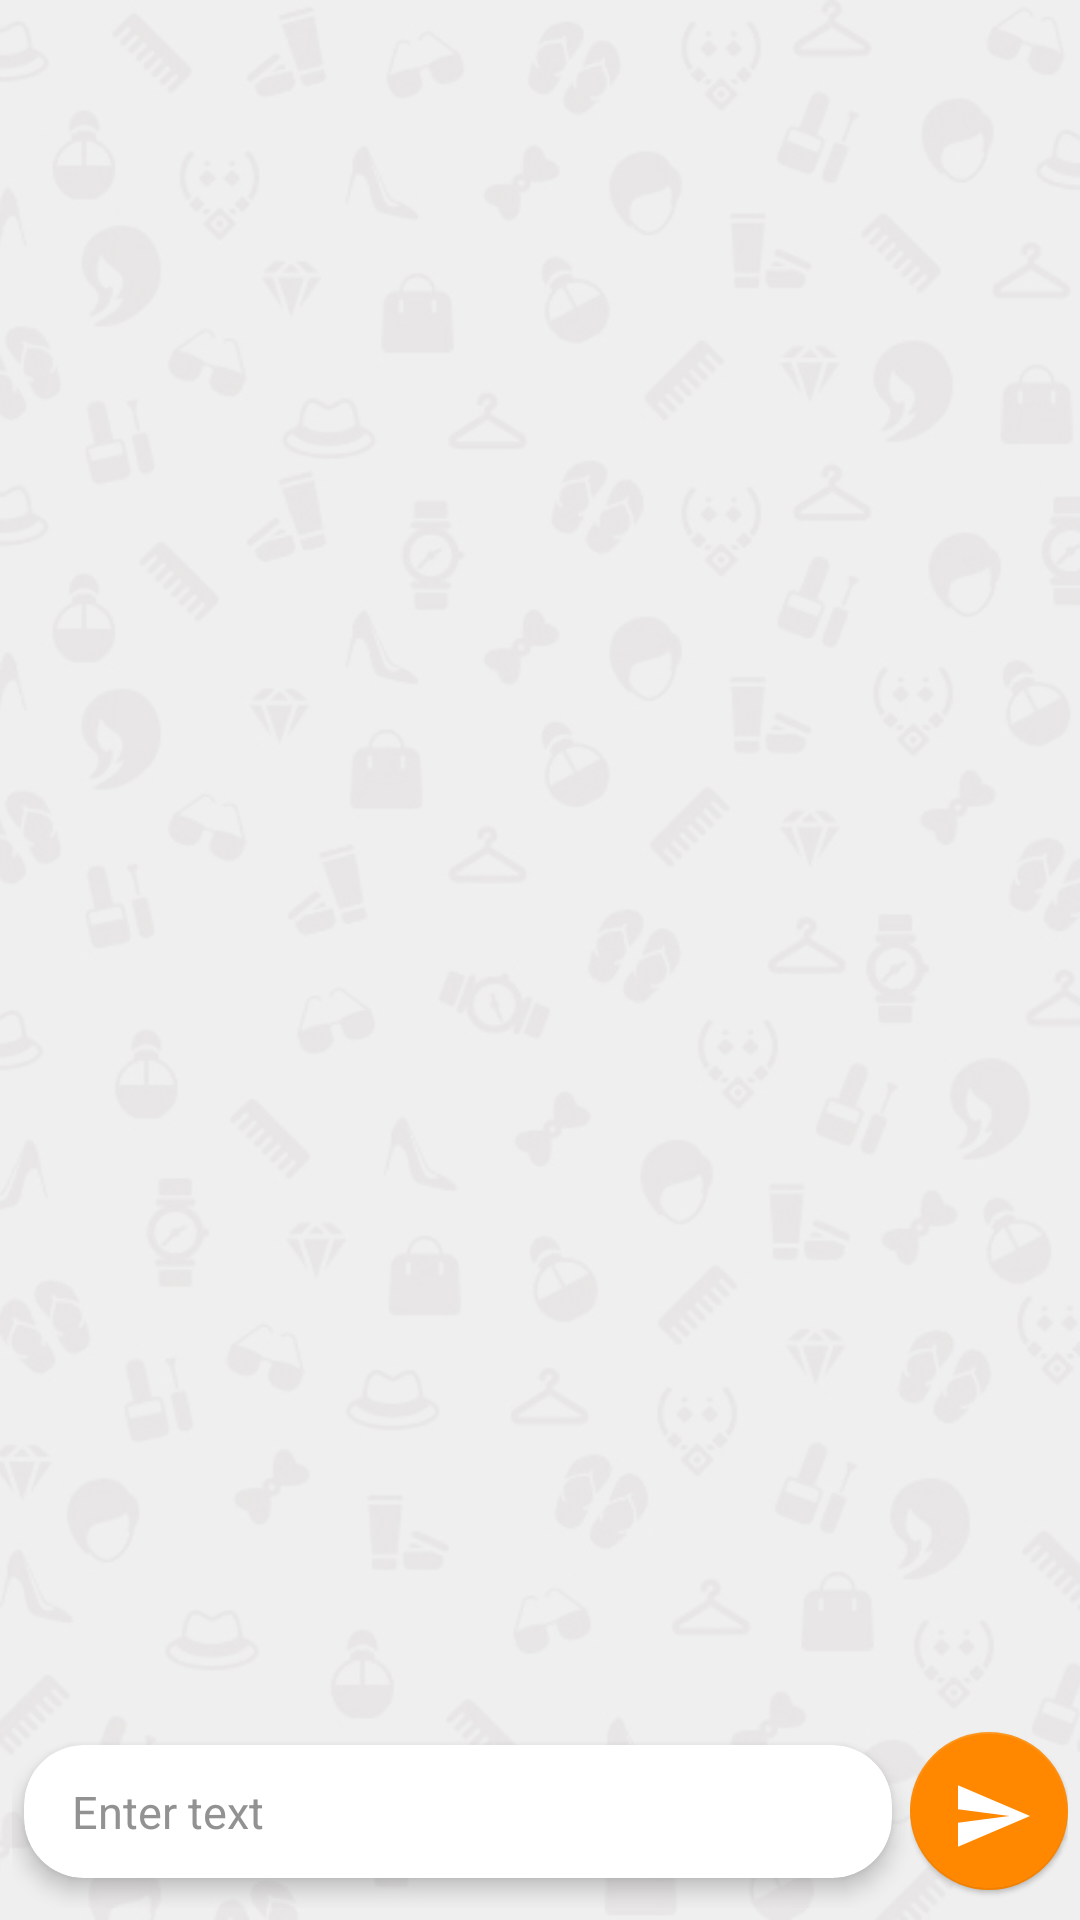

Named icons in this screenshot (1080w x 1920h) and their centers, [x,y]:
send: [989,1811]
